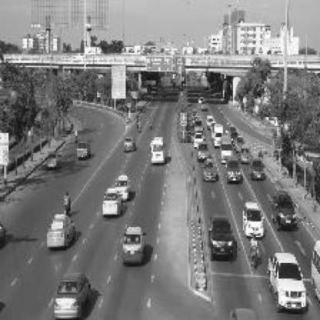other: (101, 167, 133, 217), (234, 140, 250, 162)
